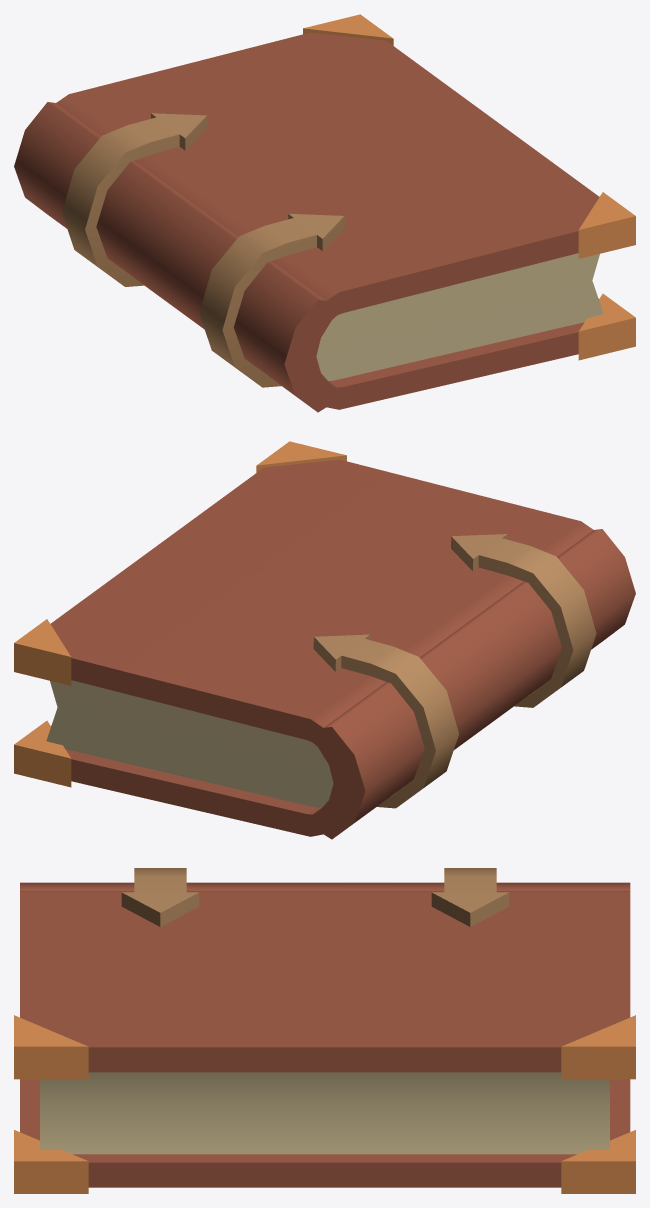
Rendered from Book_G.fbx.
3 renders of one model, top to bottom at view 1: azimuth 30°, elevation 25°; view 2: azimuth 150°, elevation 25°; view 3: azimuth 270°, elevation 25°, orthographic. The views are drawn at different scales.
Visible parts, largest first — view 1: Book_G; view 2: Book_G; view 3: Book_G.
Boxes of the visible parts, box(x1,y1,x2,y2) form: Book_G: box(14, 14, 635, 412); Book_G: box(14, 441, 635, 839); Book_G: box(14, 868, 635, 1193).
Bounding box in the file's own units: 26.37 × 10.23 × 34.95.
